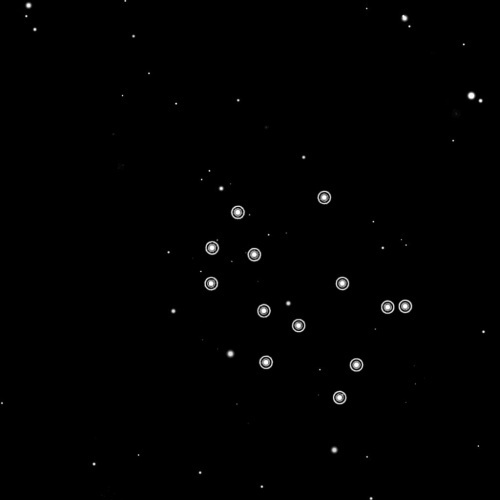gemini: (195, 178, 416, 410)
